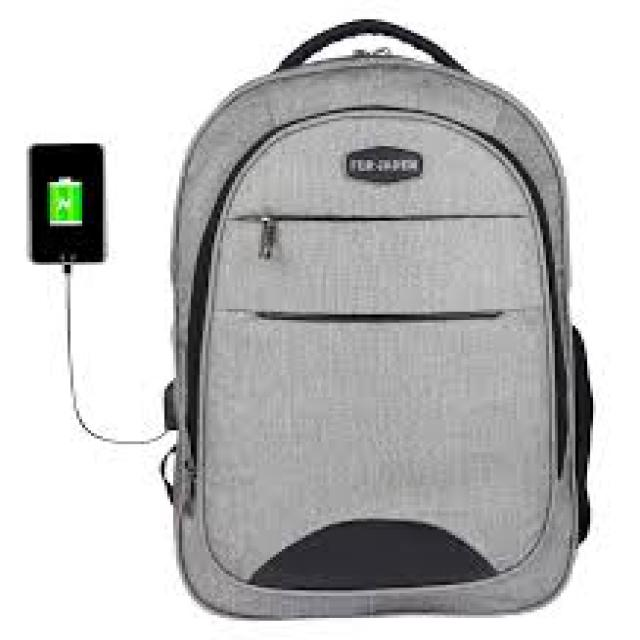backpack: (160, 17, 594, 619)
